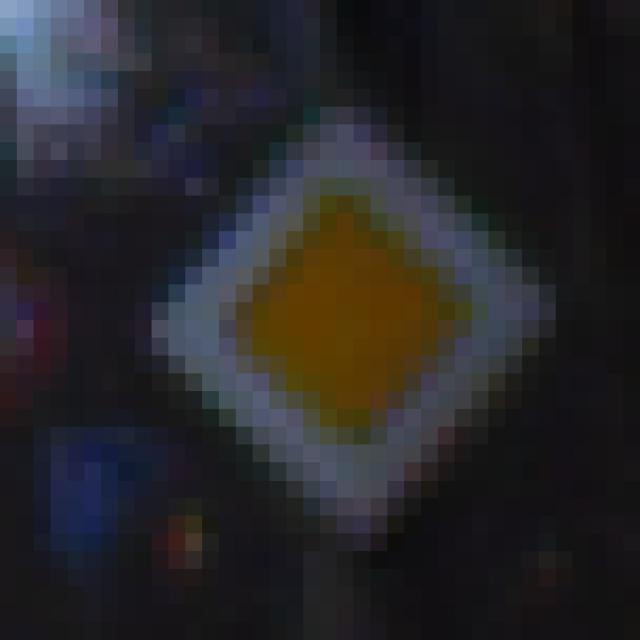Main Road: (102, 90, 557, 552)
